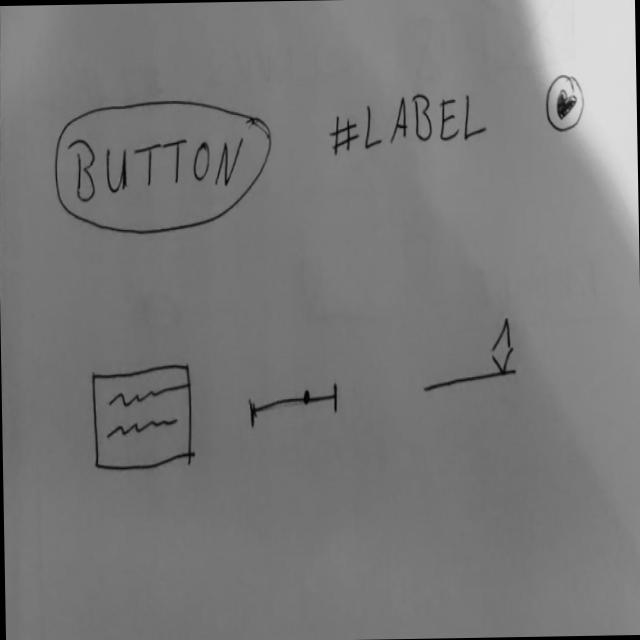button: (51, 94, 275, 238)
icon-button: (543, 70, 586, 134)
label: (326, 88, 490, 161)
number-input: (418, 312, 520, 397)
slider: (246, 378, 340, 432)
textarea: (88, 362, 194, 474)
